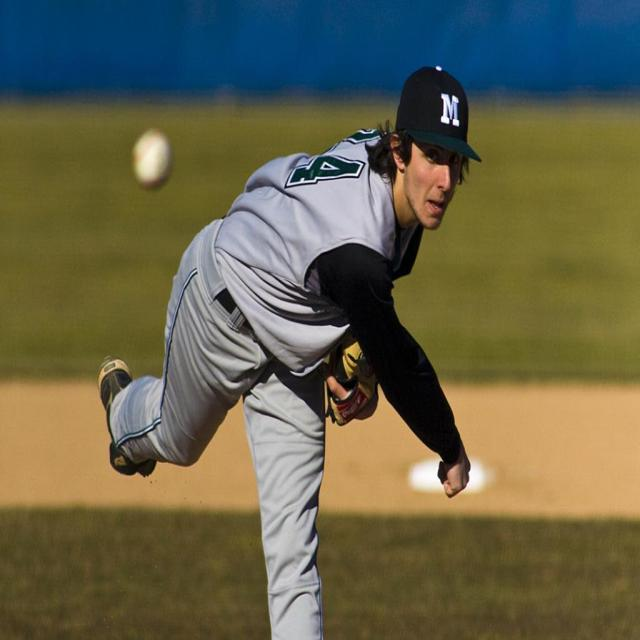Face: (397, 120, 465, 233)
